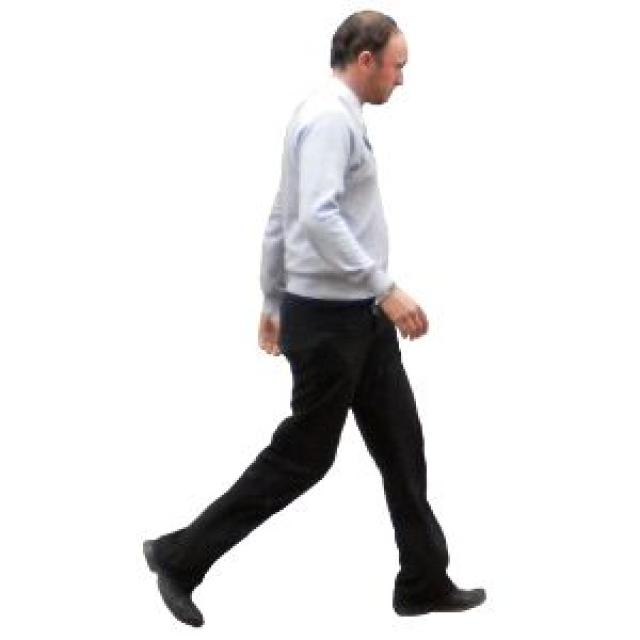nonfall: (141, 9, 503, 626)
